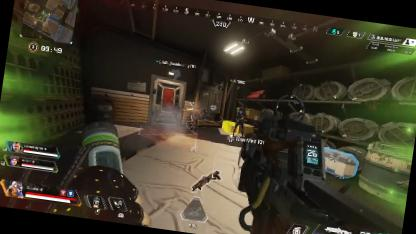Target: (186, 102, 208, 131), (234, 104, 249, 135)
